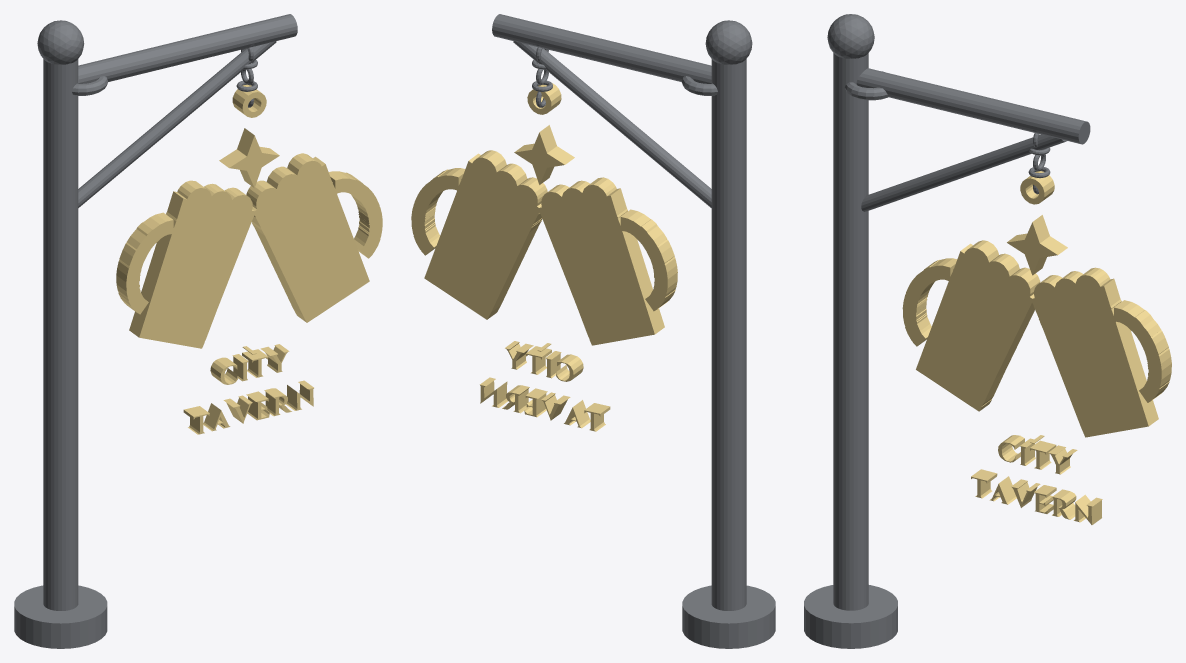
Rendered from city_tavern.glb.
3 views of the same model, side by side, from view 1: azimuth 30°, elevation 25°; view 2: azimuth 150°, elevation 25°; view 3: azimuth 330°, elevation 25° (orthographic).
Visible parts, largest first — view 1: sign, post, arm, post_base, brace, post_cap; view 2: sign, post, arm, post_base, brace, post_cap; view 3: sign, post, arm, post_base, brace, post_cap.
Boxes of the visible parts, x1=… form: sign: x1=116, y1=84, x2=382, y2=434; post: x1=43, y1=59, x2=78, y2=610; arm: x1=78, y1=14, x2=297, y2=83; post_base: x1=14, y1=585, x2=107, y2=648; brace: x1=78, y1=41, x2=276, y2=207; post_cap: x1=37, y1=20, x2=84, y2=64; sign: x1=411, y1=83, x2=677, y2=431; post: x1=711, y1=59, x2=746, y2=610; arm: x1=492, y1=14, x2=711, y2=83; post_base: x1=682, y1=585, x2=775, y2=648; brace: x1=513, y1=41, x2=711, y2=207; post_cap: x1=705, y1=20, x2=752, y2=64; sign: x1=902, y1=171, x2=1171, y2=524; post: x1=833, y1=53, x2=868, y2=610; arm: x1=856, y1=68, x2=1090, y2=144; post_base: x1=804, y1=585, x2=897, y2=648; brace: x1=861, y1=134, x2=1066, y2=211; post_cap: x1=827, y1=14, x2=874, y2=58.
Bounding box in the file's own units: 1.75 × 2.86 × 0.3978.
